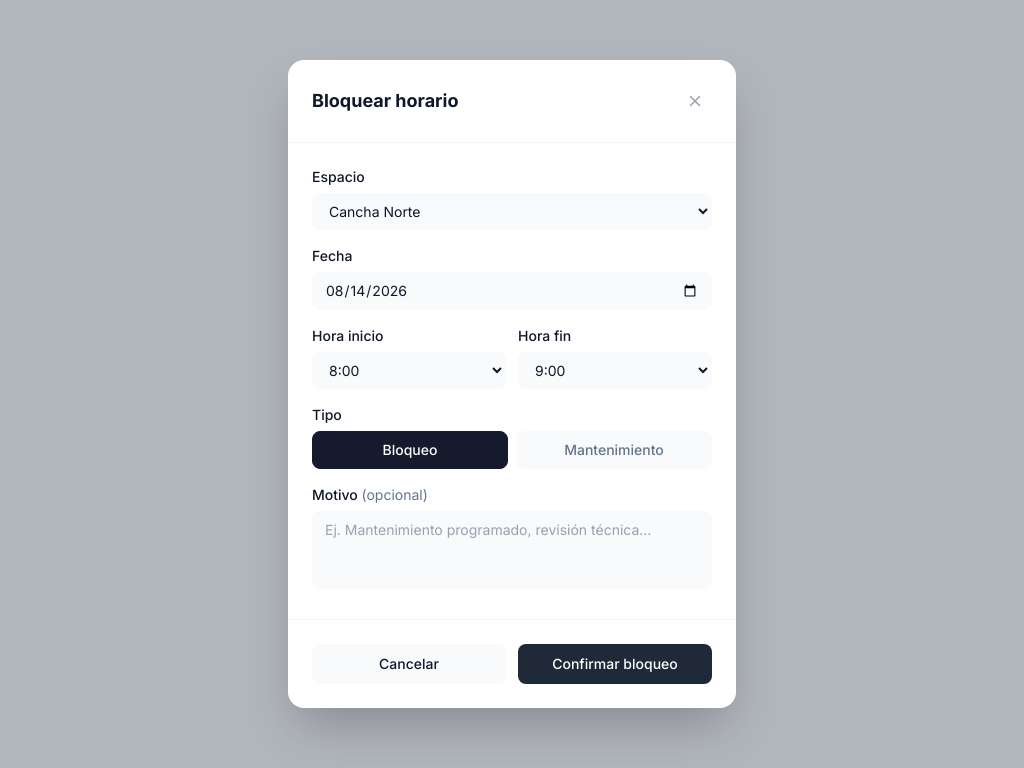
it: BlockModal › rechaza un rango en el que la hora fin no es posterior al inicio
This screenshot has width=1024, height=768.
Select "12:00" in the dropdown below "Hora inicio" at (409, 370), box [312,352,506,389]
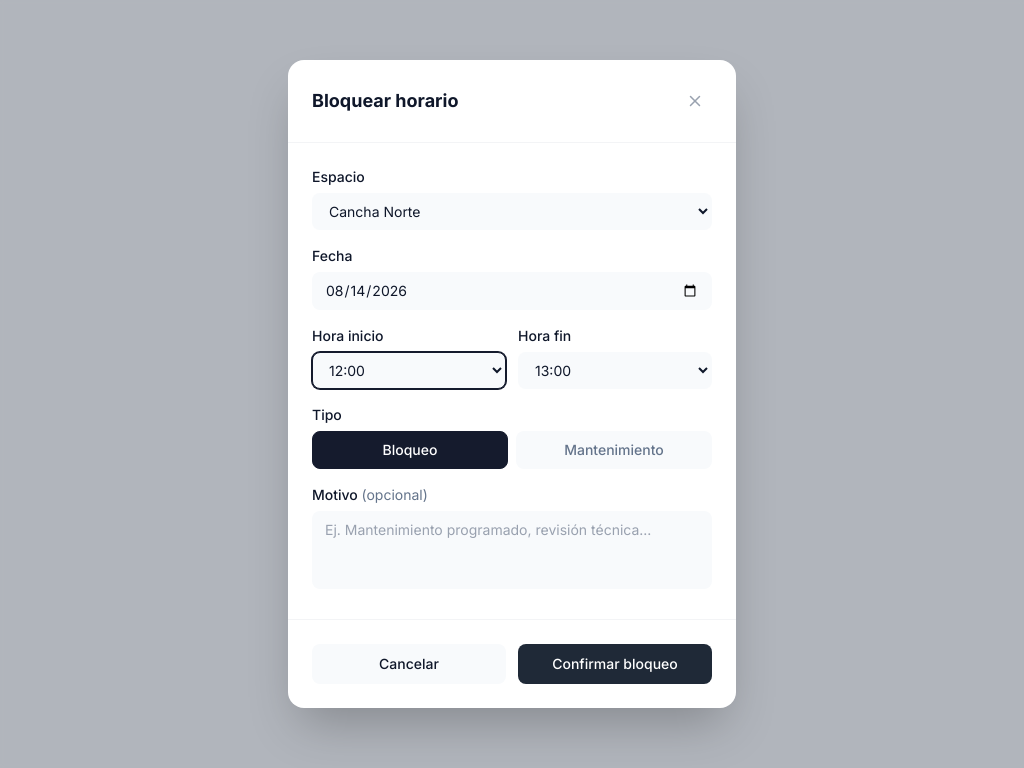
Select "13:00" in the dropdown below "Hora fin" at (615, 370), box [518,352,712,389]
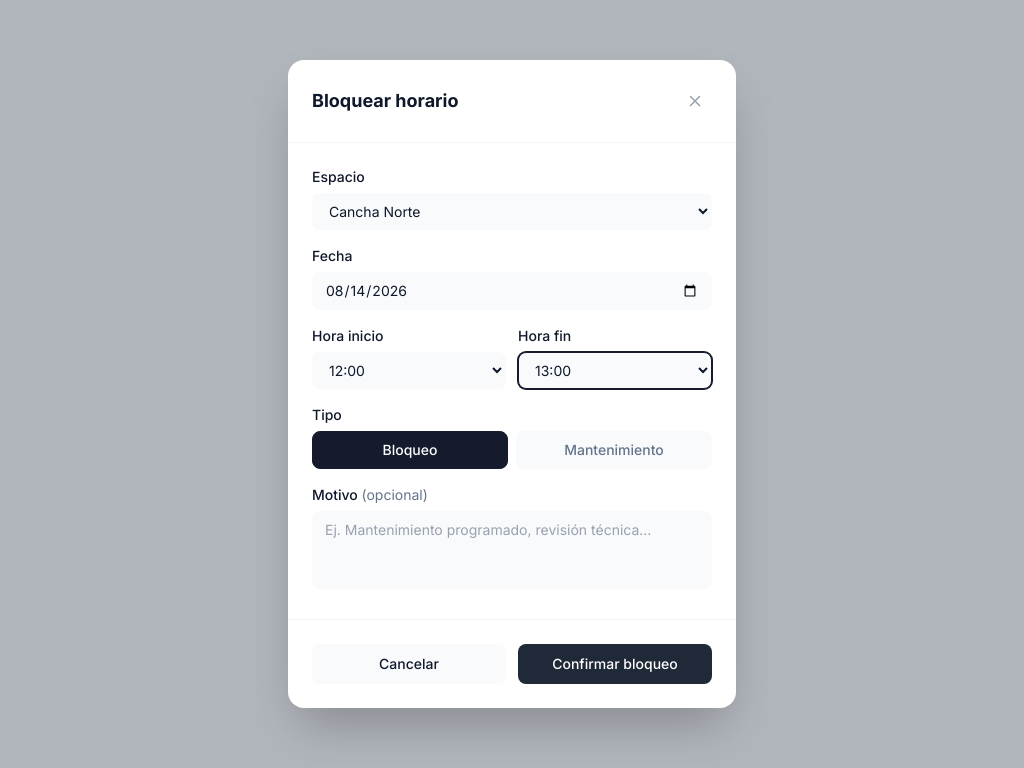
Select "18:00" in the dropdown below "Hora inicio" at (409, 370), box [312,352,506,389]
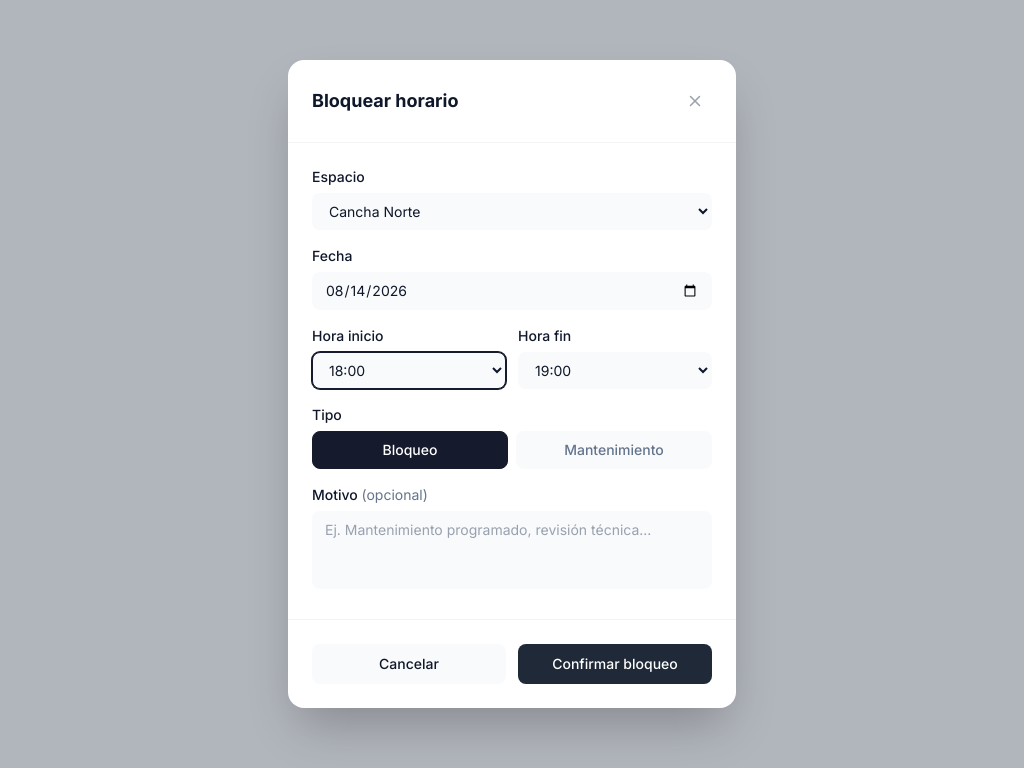
Click the button "Confirmar bloqueo" at (615, 664), box [518,644,712,684]
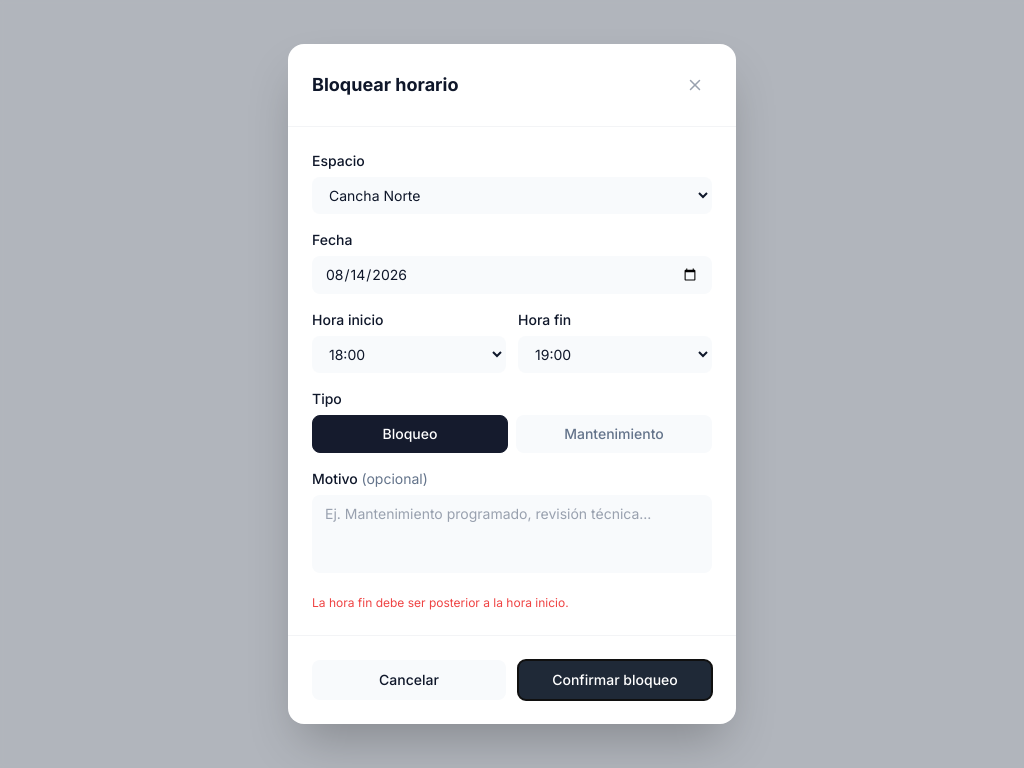
Now the text "La hora fin debe ser posterior a la hora inicio." is shown, box [312,595,569,610]
